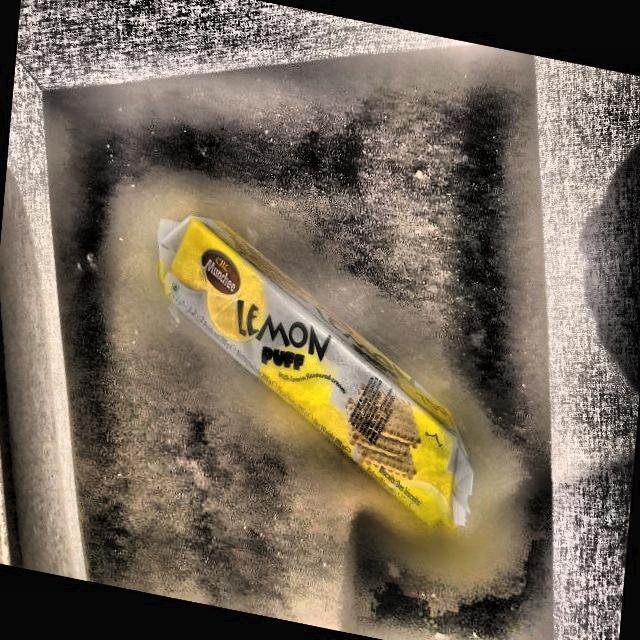lemon puff: (146, 200, 468, 526)
